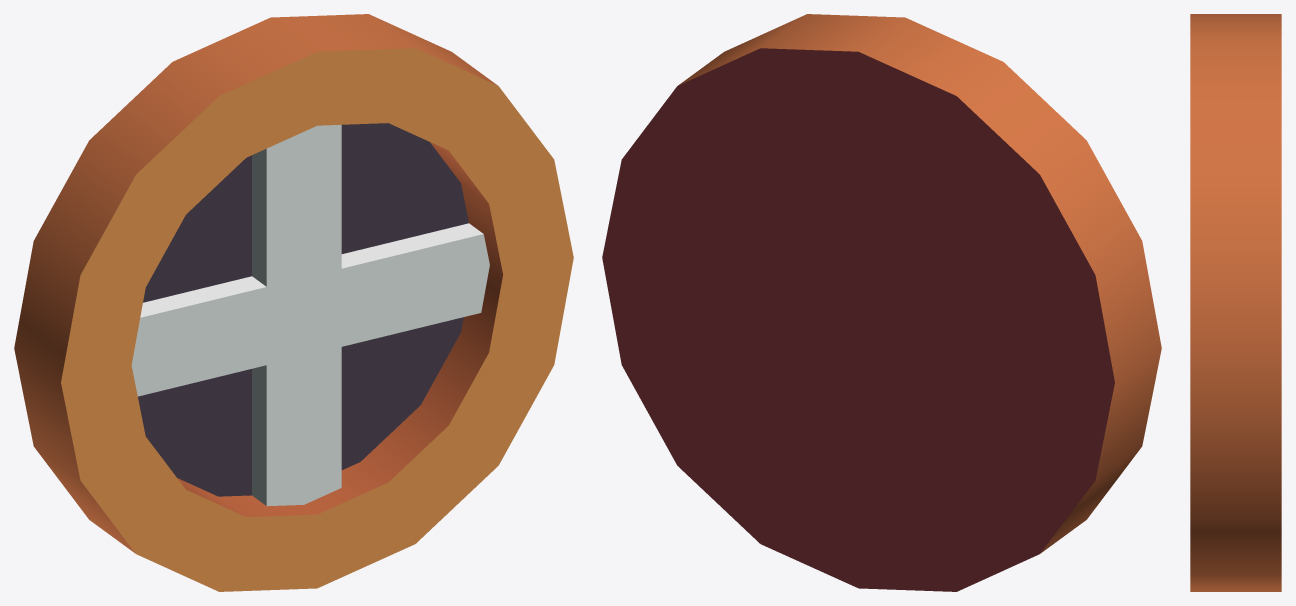
The model's file is SmallWindow02_Orange_White.glb.
3 renders of one model, left to right at view 1: azimuth 30°, elevation 25°; view 2: azimuth 150°, elevation 25°; view 3: azimuth 270°, elevation 25°, orthographic. The views are drawn at different scales.
Parts seen in each view (by area): view 1: SmallWindow02_Orange_White; view 2: SmallWindow02_Orange_White; view 3: SmallWindow02_Orange_White.
Part boxes in pixels (bbox=[...]): SmallWindow02_Orange_White: bbox=[14, 14, 573, 591]; SmallWindow02_Orange_White: bbox=[602, 14, 1161, 591]; SmallWindow02_Orange_White: bbox=[1190, 14, 1281, 591].
Bounding box in the file's own units: 0.5633 × 0.5633 × 0.089.
Materials: 1 (1 with a texture image).
